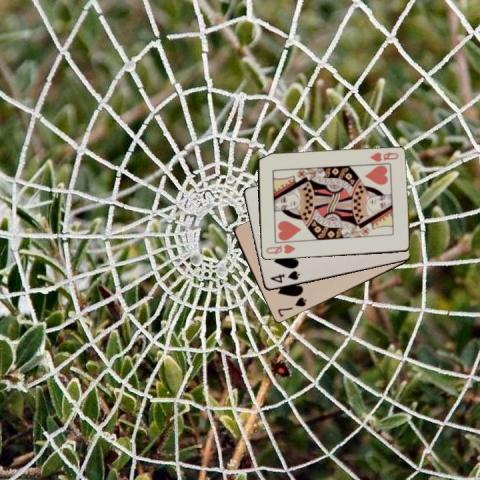4s: (268, 268, 301, 285)
7s: (275, 294, 308, 318)
Qh: (263, 241, 297, 256), (367, 150, 400, 164)
